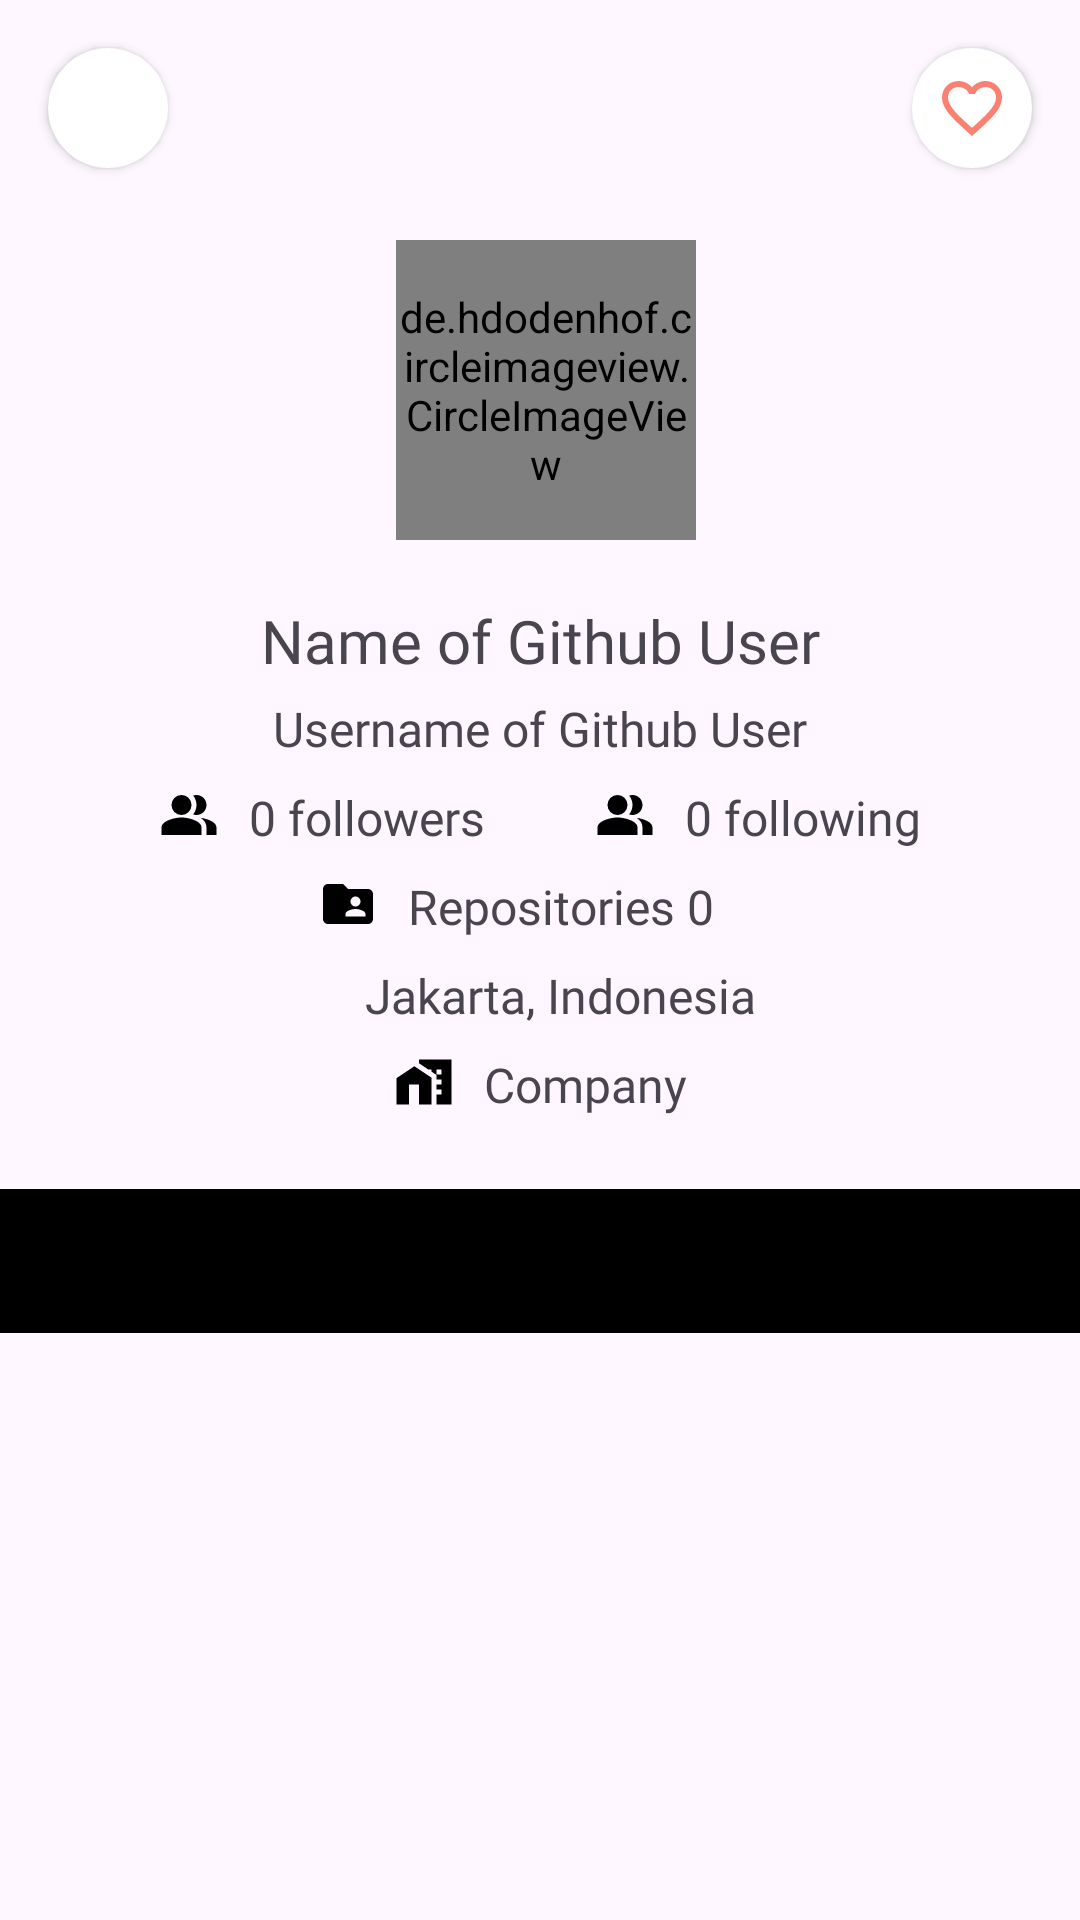

Named icons in this screenshot (1080px x 1920px) and their bounding boxes, (x1, y1, x2, y2):
folder shared: (323, 884, 373, 924)
home work: (396, 1059, 452, 1105)
people: (161, 795, 217, 835), (597, 795, 653, 835)
unfavorite: (942, 81, 1002, 136)
